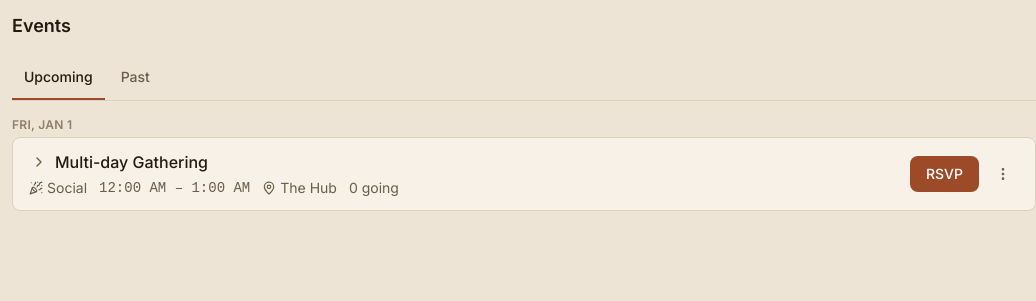
it: EventsSection › side-events › excludes side-events from the top-level date-grouped list, and reveals them via the parent's chevron
Check: the link "Multi-day Gathering" is shown, box x1=55 y1=150 x2=208 y2=174
Check: the text "Morning Session" is not shown
Click the button named "Expand side-events" at (39, 162), box x1=29 y1=152 x2=49 y2=172
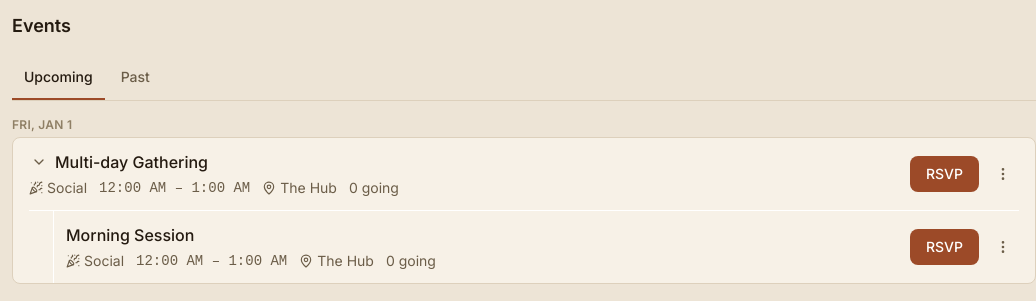
Check: the link "Morning Session" is shown, box x1=66 y1=223 x2=194 y2=247
